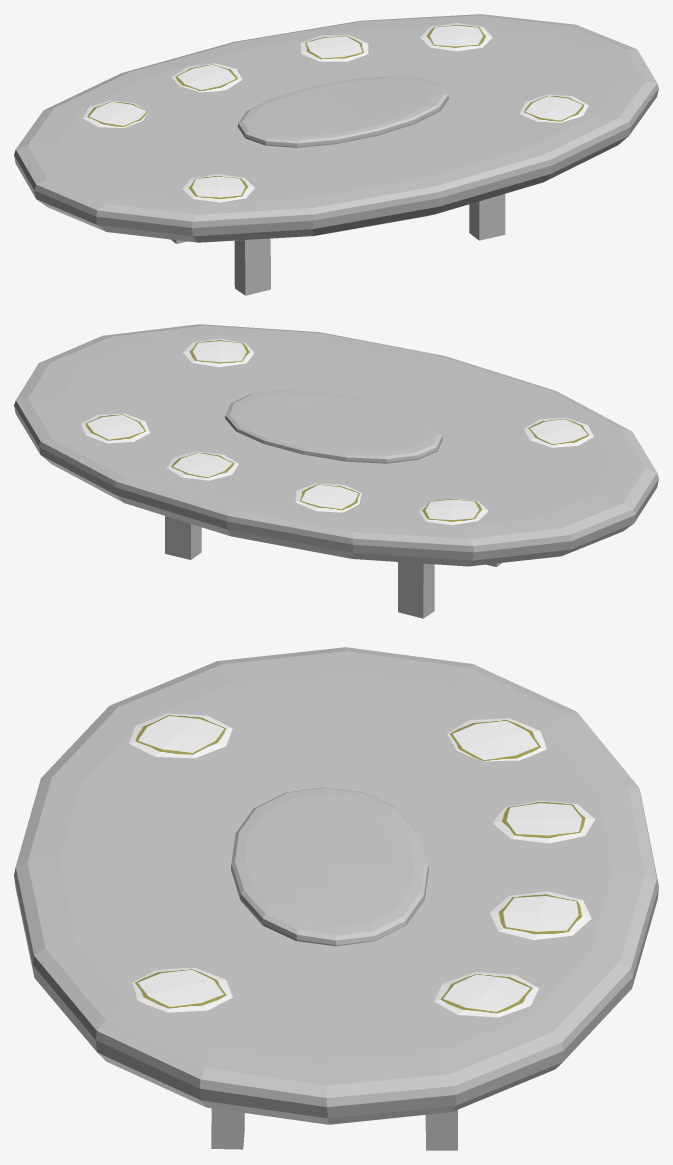
The model's file is taable.fbx.
The picture shows the model from 3 angles, top to bottom: view 1: azimuth 30°, elevation 25°; view 2: azimuth 150°, elevation 25°; view 3: azimuth 270°, elevation 25°; orthographic projection. The views are drawn at different scales.
Parts seen in each view (by area): view 1: Cube, Cube.005, Cube.003; view 2: Cube, Cube.005, Cube.003; view 3: Cube, Cube.005, Cube.003.
Boxes of the visible parts, <box> form: Cube: <box>14,14,658,295</box>; Cube.005: <box>237,76,448,147</box>; Cube.003: <box>83,23,588,202</box>; Cube: <box>14,324,658,618</box>; Cube.005: <box>225,390,442,463</box>; Cube.003: <box>81,338,593,525</box>; Cube: <box>14,647,658,1150</box>; Cube.005: <box>231,787,428,946</box>; Cube.003: <box>129,713,594,1017</box>.
Bounding box in the file's own units: 479 × 99.97 × 293.
